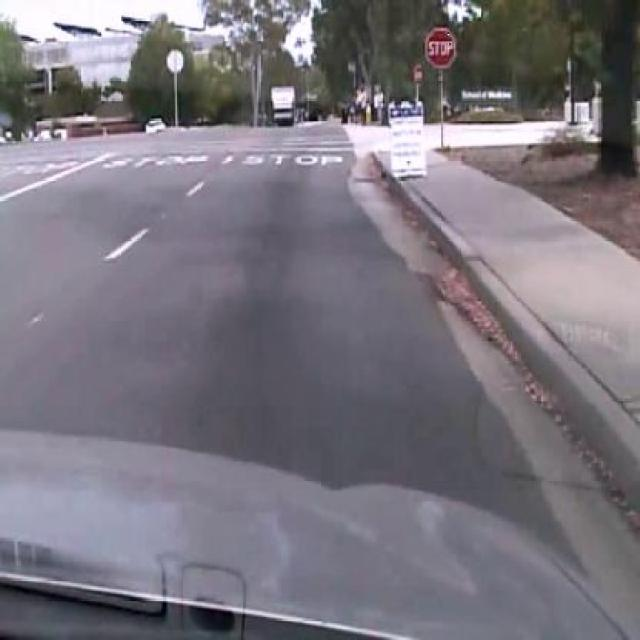stop: (424, 26, 456, 69)
